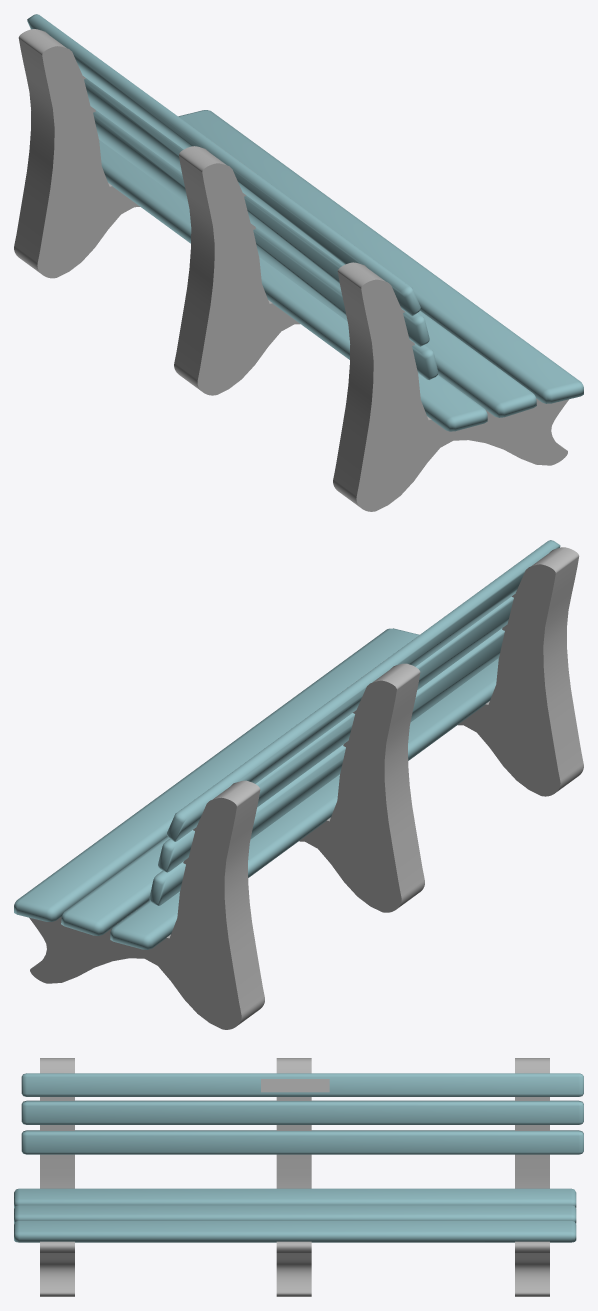
Rendered from bench.fbx.
3 views of the same model, one above another, from view 1: azimuth 30°, elevation 25°; view 2: azimuth 150°, elevation 25°; view 3: azimuth 270°, elevation 25° (orthographic). The views are drawn at different scales.
Parts seen in each view (by area): view 1: Cube.008, Cube.006, Cube.007, Cube.009; view 2: Cube.008, Cube.009, Cube.006, Cube.007; view 3: Cube.008, Cube.007, Cube.006, Cube.009, Cube.
Boxes of the visible parts, x1,y1,x2,y2 form: Cube.008: [27, 14, 583, 431]; Cube.006: [333, 262, 568, 511]; Cube.007: [174, 146, 299, 395]; Cube.009: [14, 29, 139, 278]; Cube.008: [14, 540, 560, 949]; Cube.009: [29, 780, 264, 1029]; Cube.006: [458, 547, 583, 796]; Cube.007: [299, 663, 424, 912]; Cube.008: [14, 1073, 583, 1242]; Cube.007: [276, 1058, 311, 1296]; Cube.006: [40, 1058, 74, 1296]; Cube.009: [515, 1058, 549, 1296]; Cube: [261, 1079, 329, 1092].
Bounding box in the file's own units: 132 × 133 × 398.
